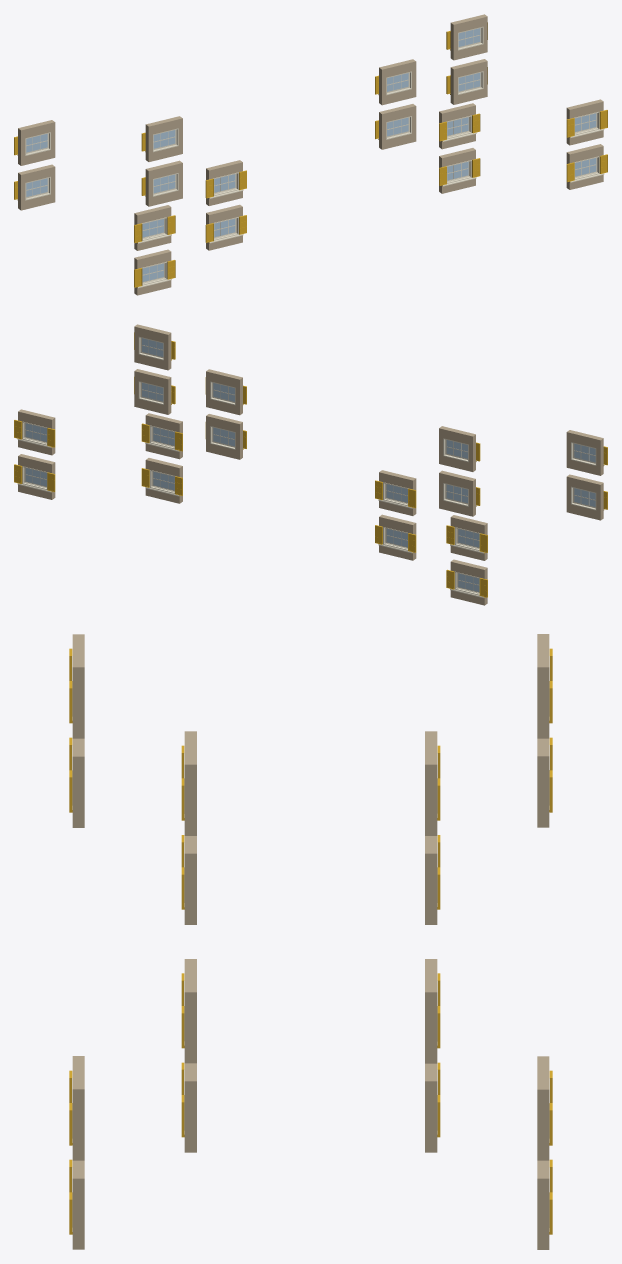
File: SM_TripleWindowWall2.glb
3 views of the same model, one above another, from view 1: azimuth 30°, elevation 25°; view 2: azimuth 150°, elevation 25°; view 3: azimuth 270°, elevation 25° (orthographic). The views are drawn at different scales.
Visible parts, largest first — view 1: Triple Shutters.001; view 2: Triple Shutters.001; view 3: Triple Shutters.001.
Part boxes in pixels (left/top/right/bottom): Triple Shutters.001: left=14, top=14, right=607, bottom=295; Triple Shutters.001: left=14, top=324, right=607, bottom=605; Triple Shutters.001: left=69, top=634, right=552, bottom=1249.
Size of the model in its own units: 55.57 by 9 by 24.57.
